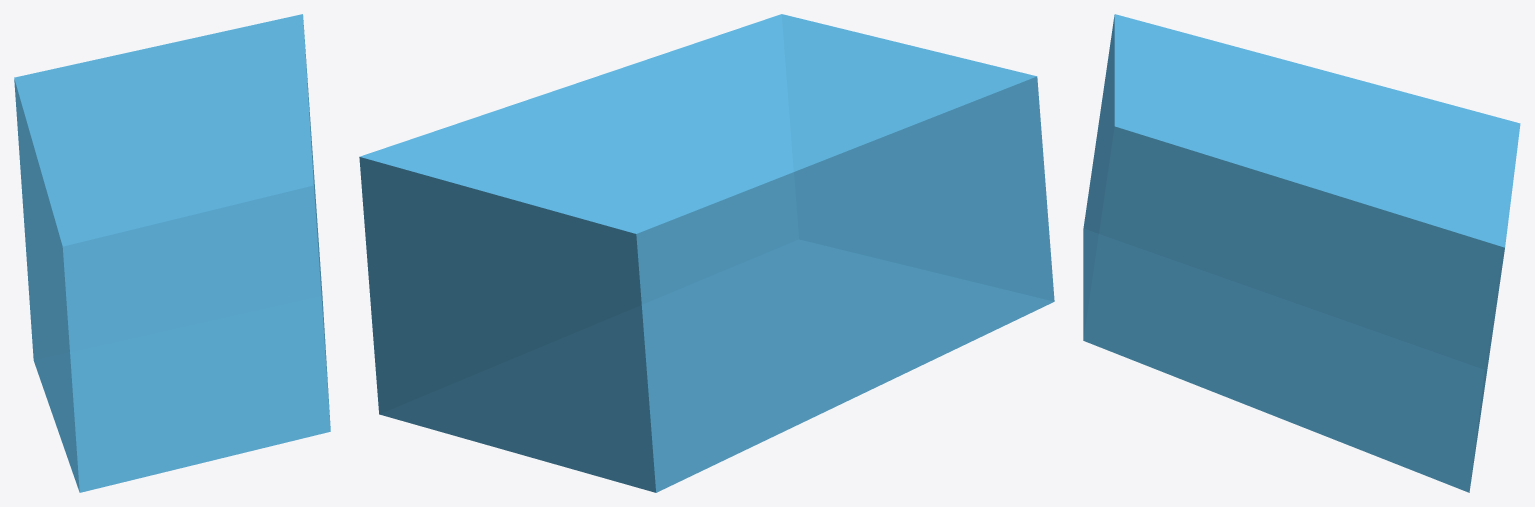
Rendered from Event_421127236_HBrechit_29.fbx.
3 renders of one model, left to right at view 1: azimuth 30°, elevation 25°; view 2: azimuth 150°, elevation 25°; view 3: azimuth 270°, elevation 25°, orthographic. The views are drawn at different scales.
Visible parts, largest first — view 1: Model; view 2: Model; view 3: Model.
Boxes of the visible parts, x1,y1,x2,y2 form: Model: [14, 14, 330, 492]; Model: [359, 14, 1054, 492]; Model: [1083, 14, 1520, 492].
Size of the model in its own units: 0.8076 by 0.5173 by 0.7355.
